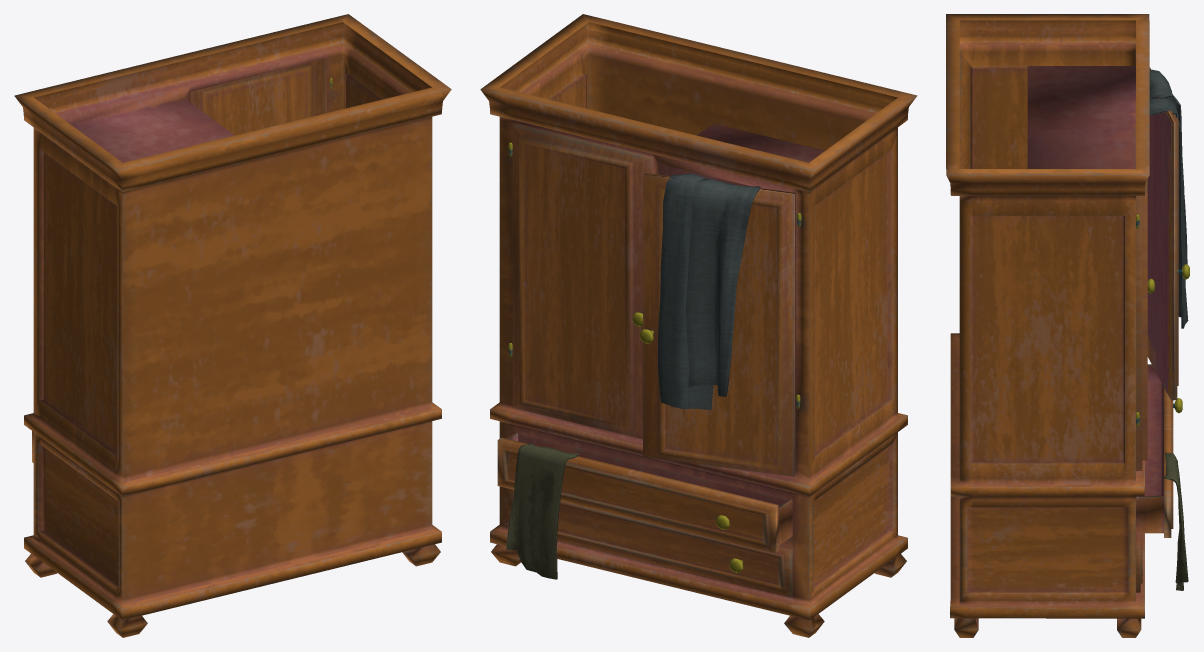
File: f_Wardrobe.fbx
The picture shows the model from 3 angles, left to right: view 1: azimuth 30°, elevation 25°; view 2: azimuth 150°, elevation 25°; view 3: azimuth 270°, elevation 25°; orthographic projection.
Visible parts, largest first — view 1: Pant_1_LD.001; view 2: Pant_1_LD.001; view 3: Pant_1_LD.001.
Part boxes in pixels (<box>): Pant_1_LD.001: <box>14,14,451,637</box>; Pant_1_LD.001: <box>480,14,917,637</box>; Pant_1_LD.001: <box>946,14,1189,637</box>.
Size of the model in its own units: 325 by 441 by 208.
